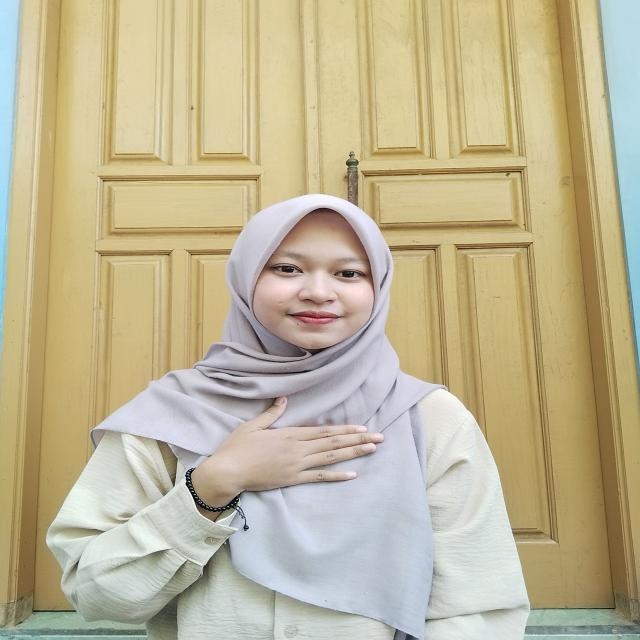tolong: (151, 390, 395, 523)
